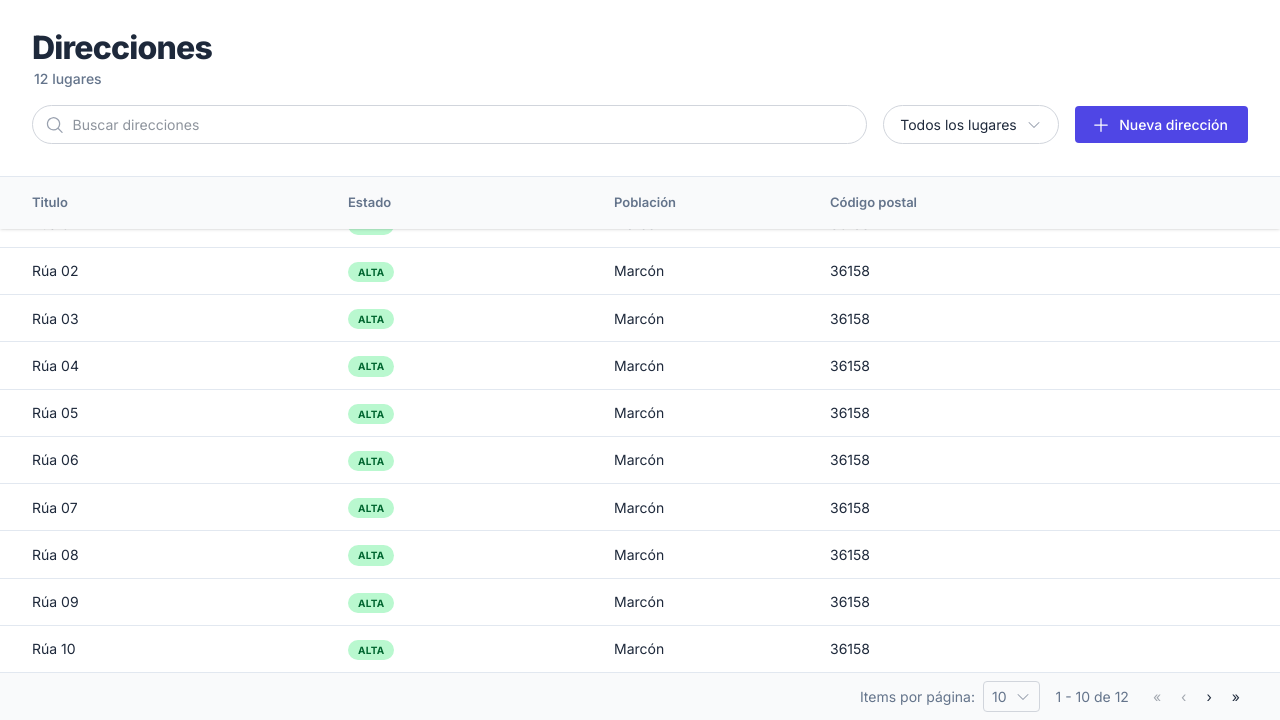
LugaresList › pagina de 10 en 10 y el contador refleja el tramo
(page scrolled)
Expected: the text "1 - 10 de 12" is shown, [1056, 686, 1129, 707]
Expected: the text "Rúa 11" is not shown
Click the button "›". click: (1209, 696)
box: [1198, 682, 1220, 711]
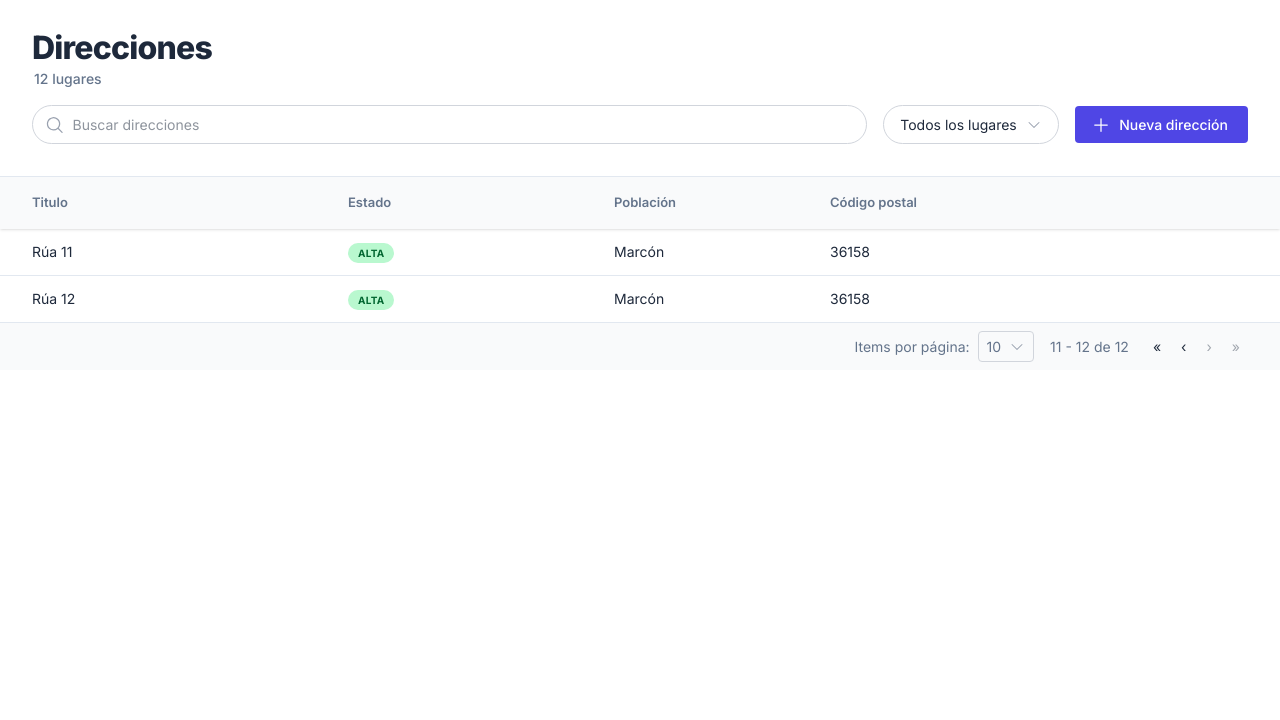
Expected: the link "Rúa 01" is not shown
Expected: the text "11 - 12 de 12" is shown, [1050, 336, 1129, 357]
Expected: the text "Rúa 11" is shown, [32, 243, 72, 260]
